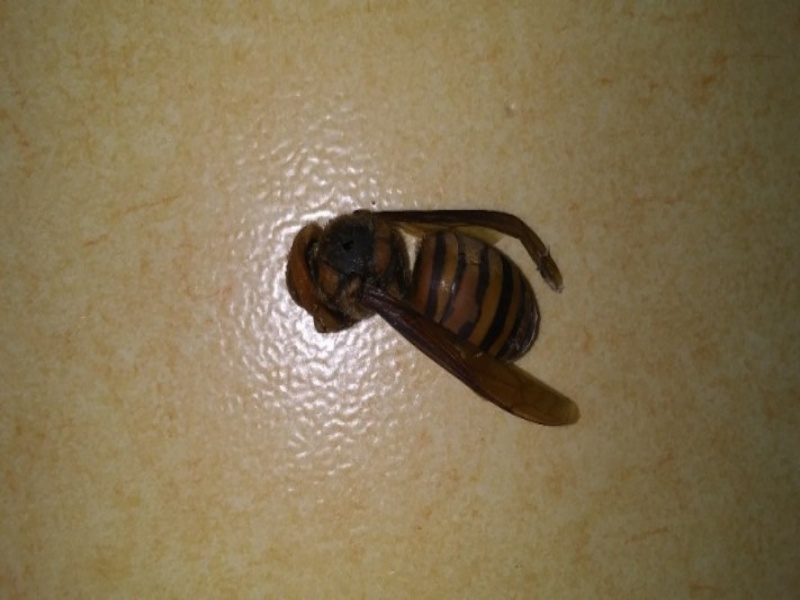asian_giant_hornet: (281, 207, 545, 364)
